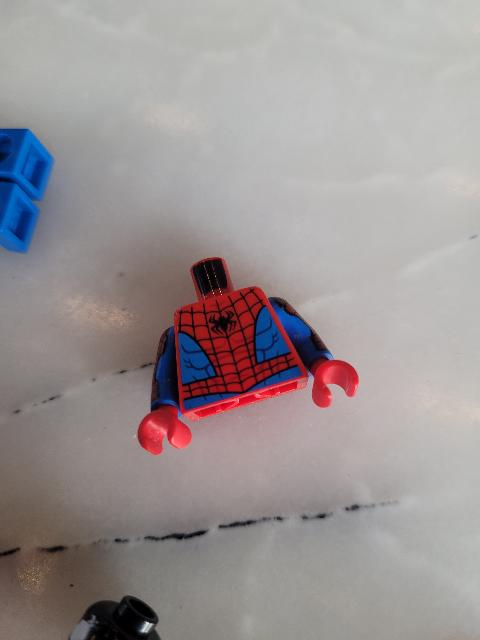Plastik: (132, 244, 368, 473)
